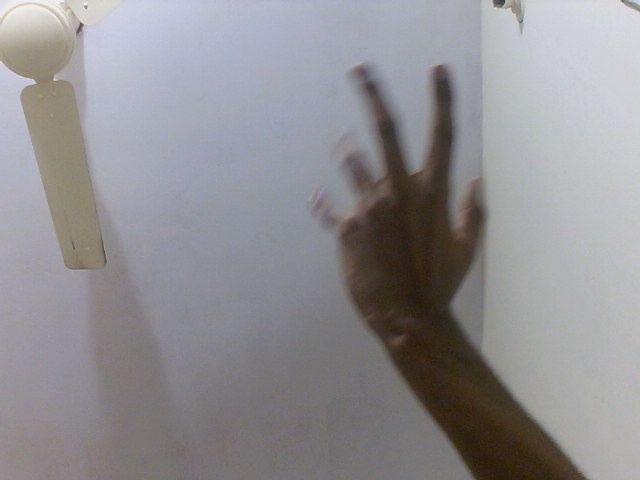hand: (303, 60, 498, 341)
